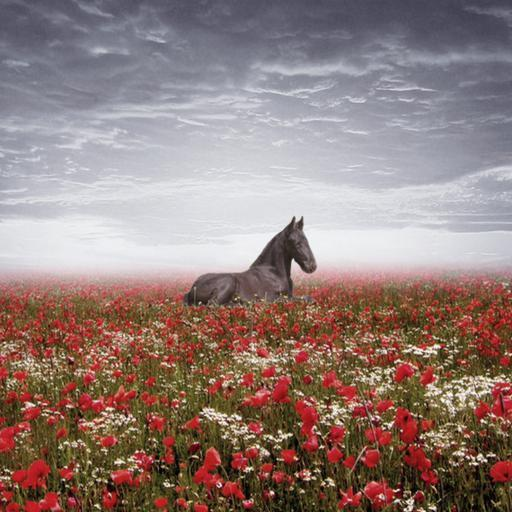horse: (183, 214, 319, 308)
